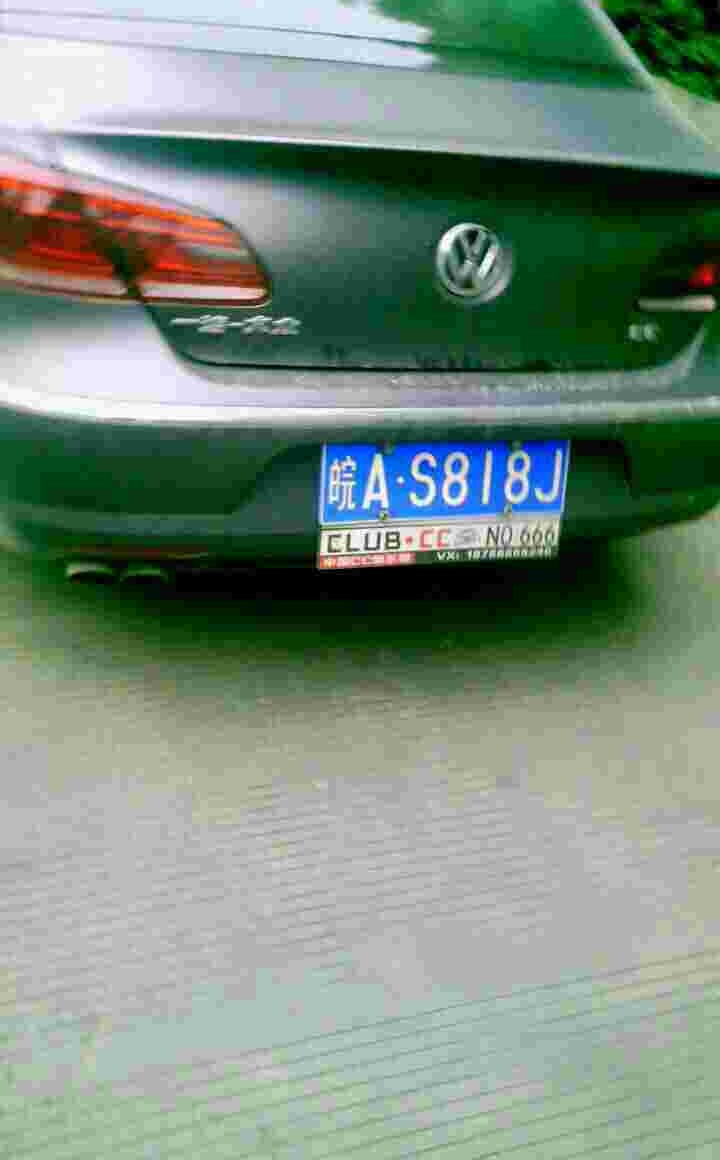license_plate: (321, 433, 567, 522)
